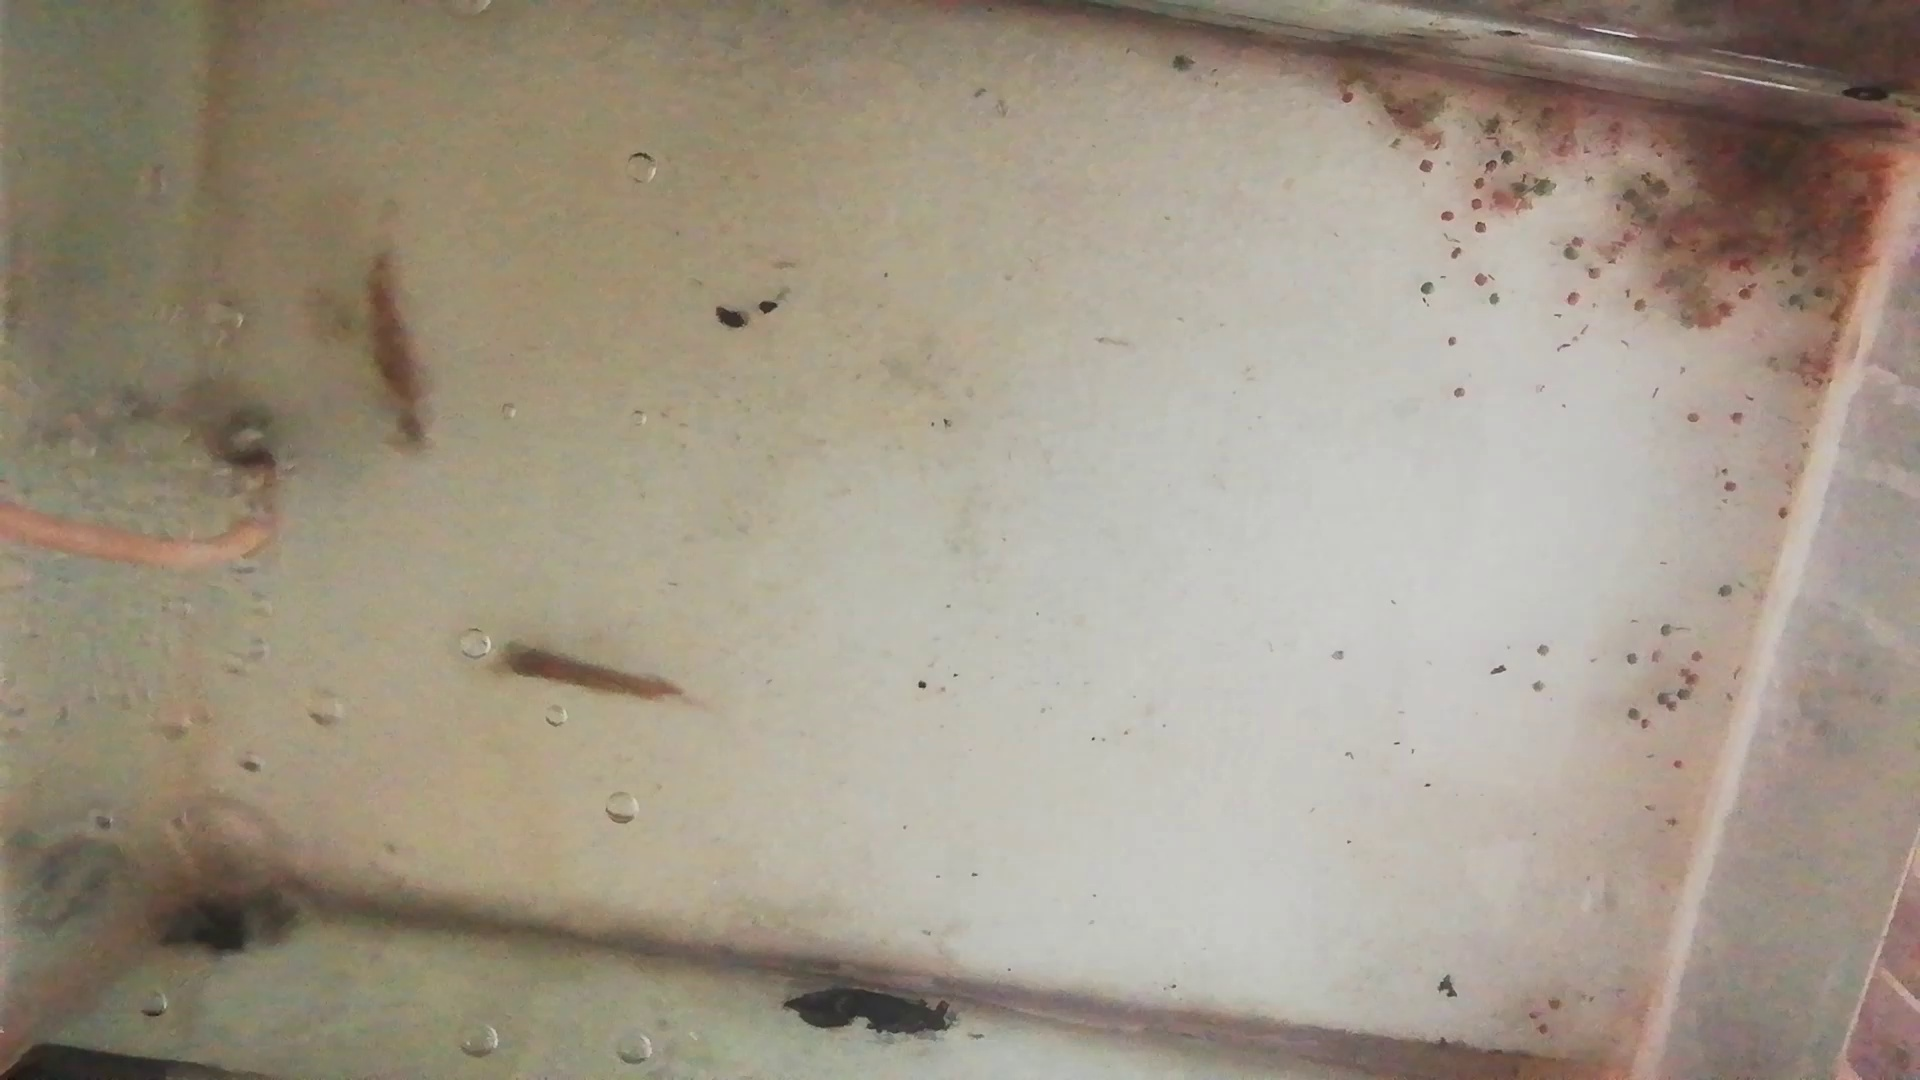fish: (364, 248, 443, 462), (491, 634, 691, 709)
